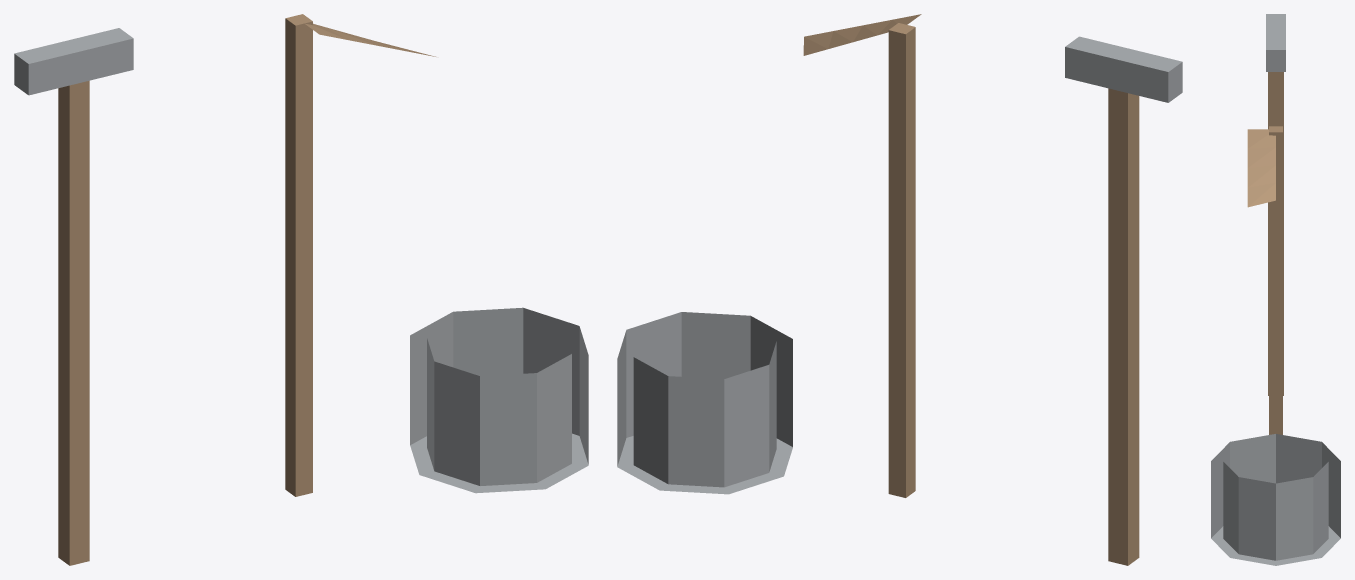
Rendered from tools_set.glb.
The picture shows the model from 3 angles, left to right: view 1: azimuth 30°, elevation 25°; view 2: azimuth 150°, elevation 25°; view 3: azimuth 270°, elevation 25°; orthographic projection. The views are drawn at different scales.
Visible parts, largest first — view 1: tools_set; view 2: tools_set; view 3: tools_set.
Part boxes in pixels (bbox=[...]): tools_set: bbox=[14, 14, 588, 565]; tools_set: bbox=[617, 14, 1182, 565]; tools_set: bbox=[1211, 14, 1340, 565].
Size of the model in its own units: 2.23 by 1.96 by 0.64.
